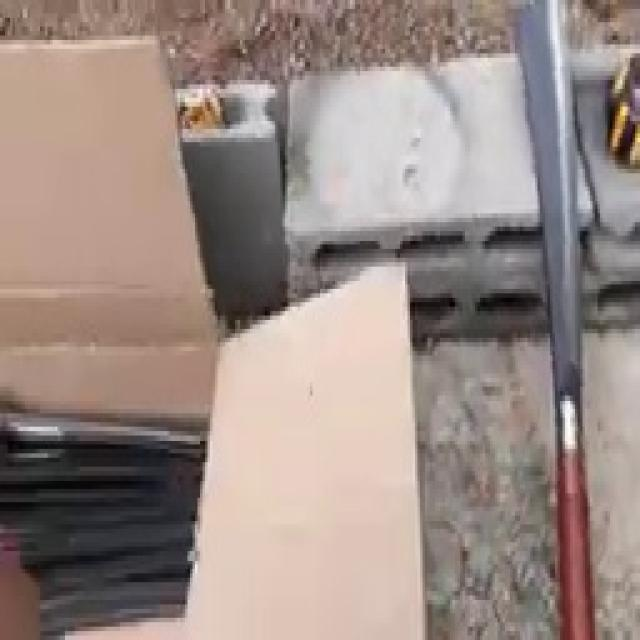eto: (507, 3, 598, 640)
